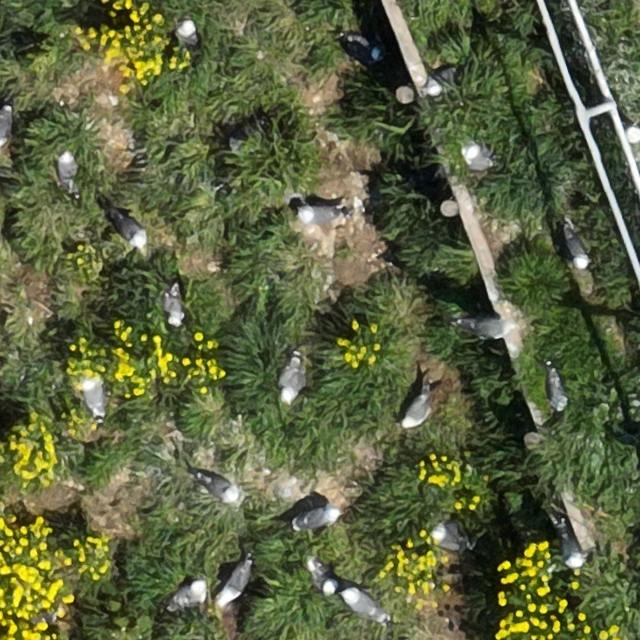umineko: (343, 589, 383, 618), (221, 562, 250, 602), (426, 520, 466, 548), (346, 36, 382, 62), (282, 358, 304, 400), (561, 530, 585, 567), (296, 506, 336, 528), (117, 216, 146, 246), (472, 318, 515, 338), (204, 476, 239, 500), (404, 394, 430, 426), (174, 580, 206, 605), (567, 232, 589, 266), (82, 381, 102, 417), (298, 205, 338, 223), (548, 370, 566, 408), (165, 288, 183, 324), (57, 151, 75, 184), (178, 18, 198, 45), (464, 147, 490, 167), (0, 105, 10, 146)
